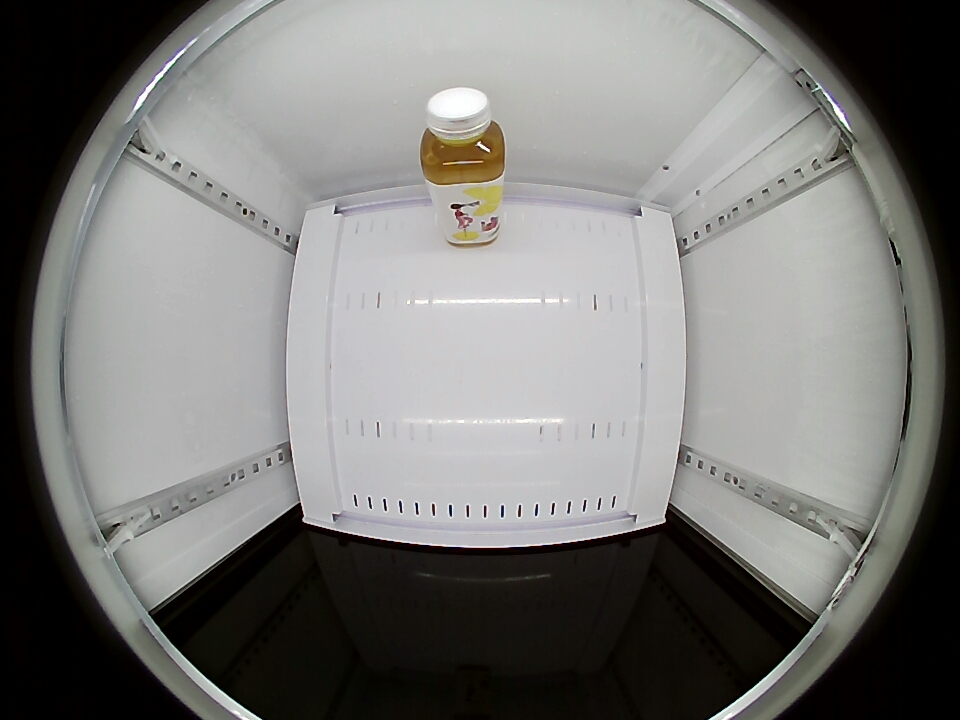chapai: (420, 88, 506, 187)
